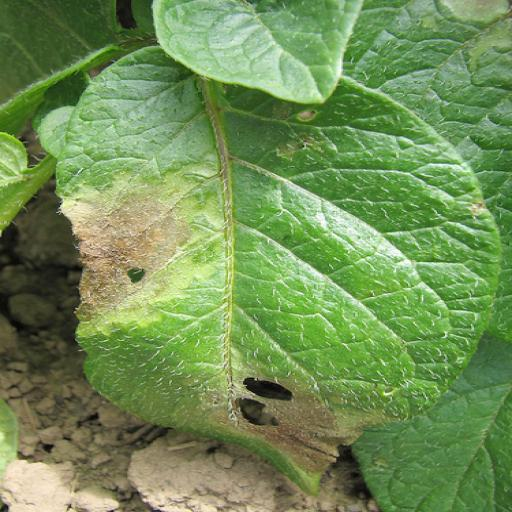Late Blight: (54, 42, 504, 496)
